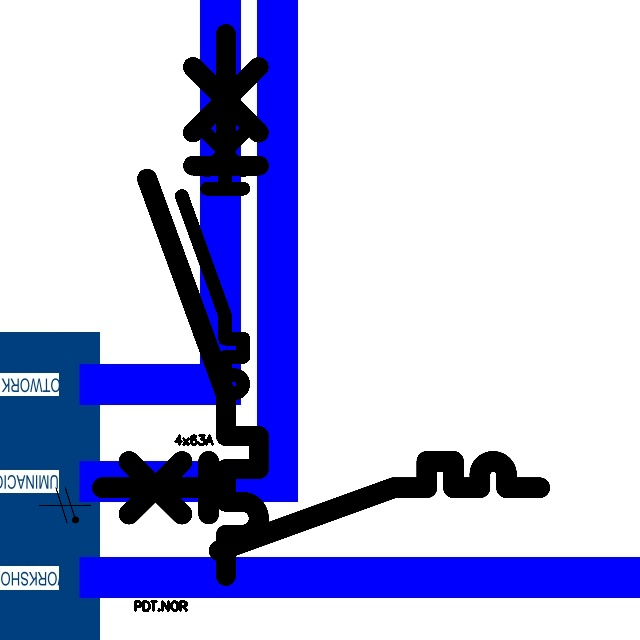interruptor_termomagnetico: (133, 20, 273, 590), (91, 450, 551, 562), (174, 108, 251, 424)
